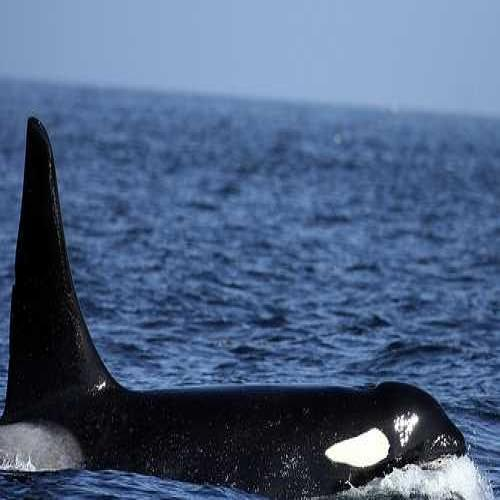killer_whale-endangered: (0, 108, 462, 500)
